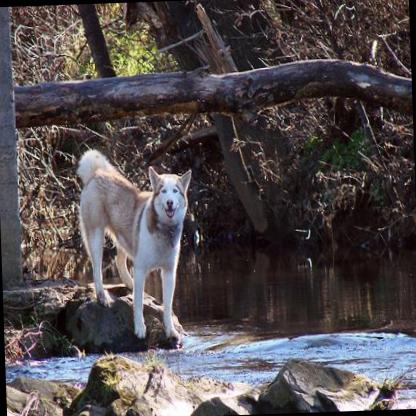Eskimo_dog: (66, 136, 202, 350)
